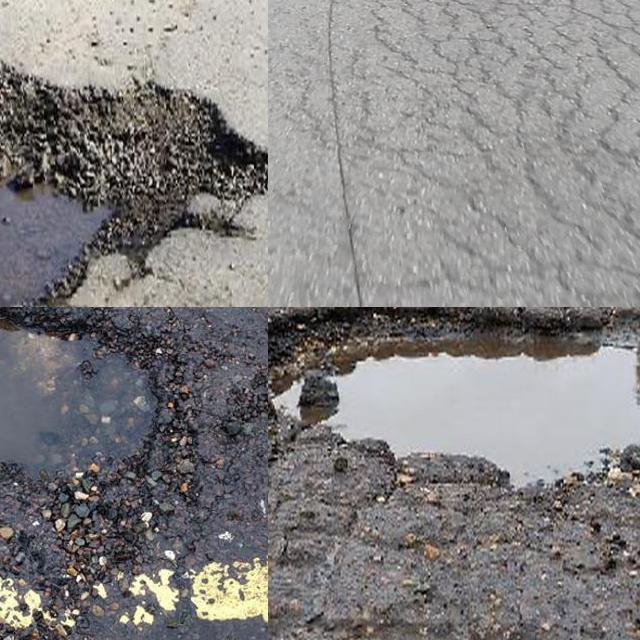Lubang: (268, 307, 640, 483), (0, 77, 268, 307), (0, 307, 147, 515)
Retak Buaya: (352, 0, 640, 307)
